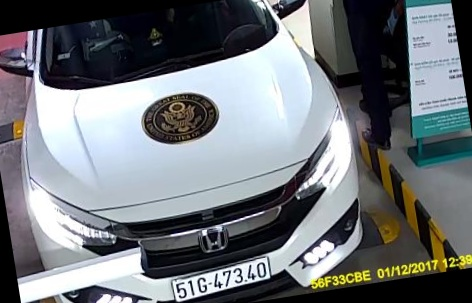plate: (159, 254, 278, 303)
